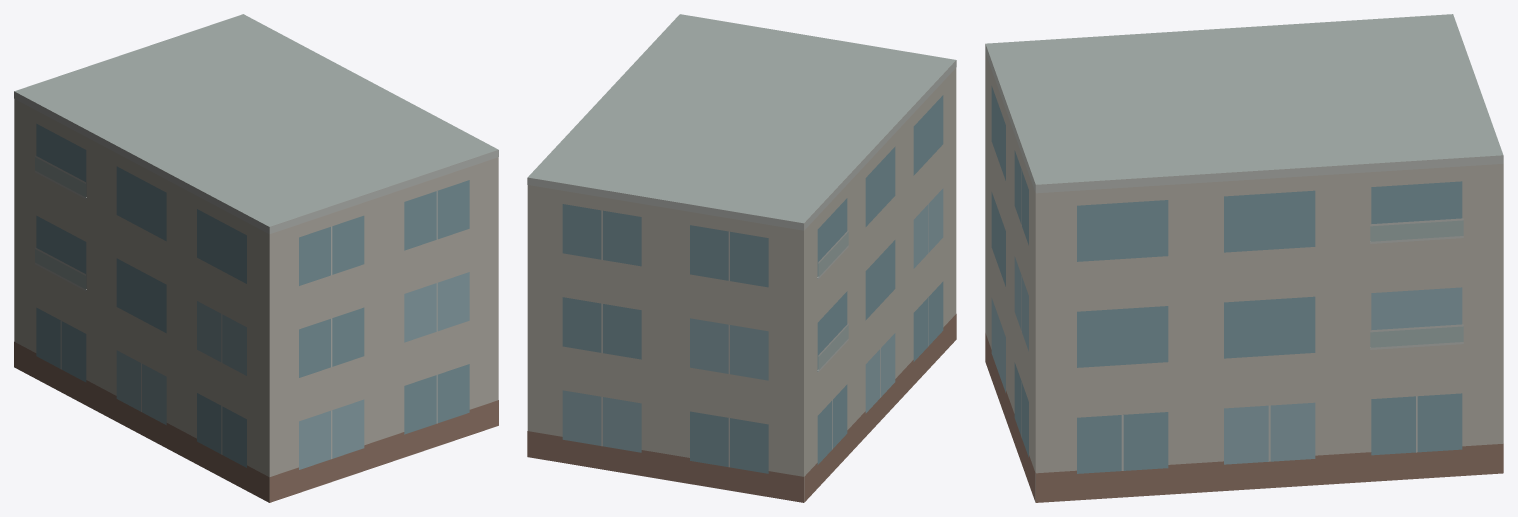
The model's file is survey-upis-32716256.glb.
3 views of the same model, side by side, from view 1: azimuth 30°, elevation 25°; view 2: azimuth 150°, elevation 25°; view 3: azimuth 270°, elevation 25° (orthographic). The views are drawn at different scales.
Visible parts, largest first — view 1: survey-upis-32716256.tmp; view 2: survey-upis-32716256.tmp; view 3: survey-upis-32716256.tmp.
Part boxes in pixels (box(x1,y1,x2,y2)): survey-upis-32716256.tmp: box(14, 14, 498, 502); survey-upis-32716256.tmp: box(527, 14, 956, 502); survey-upis-32716256.tmp: box(985, 14, 1503, 502).
Size of the model in its own units: 10.55 by 9.15 by 13.52.
